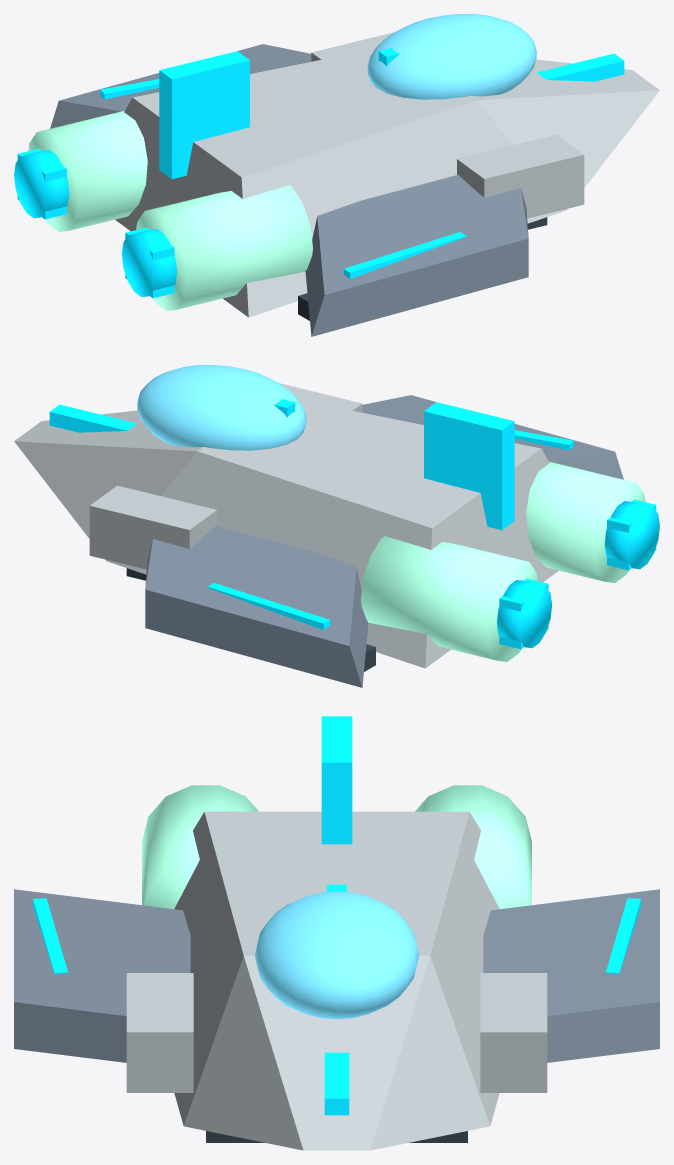
Rendered from prototype_heavy.glb.
3 views of the same model, one above another, from view 1: azimuth 30°, elevation 25°; view 2: azimuth 150°, elevation 25°; view 3: azimuth 270°, elevation 25° (orthographic). The views are drawn at different scales.
Visible parts, largest first — view 1: HeavyHull, HeavyRightWing, HeavyRightEngine, HeavyArmoredCanopy, HeavyLeftEngine, HeavyTailFin, HeavyRightShoulder, HeavyLeftWing, HeavyRightEngineCore, HeavyLeftEngineCore, HeavyNoseStripe, HeavyRightMarker (+4 smaller); view 2: HeavyHull, HeavyLeftWing, HeavyLeftEngine, HeavyArmoredCanopy, HeavyRightEngine, HeavyTailFin, HeavyLeftShoulder, HeavyRightWing, HeavyLeftEngineCore, HeavyRightEngineCore, HeavyNoseStripe, HeavyLeftMarker (+4 smaller); view 3: HeavyHull, HeavyLeftWing, HeavyRightWing, HeavyArmoredCanopy, HeavyLeftShoulder, HeavyRightShoulder, HeavyLeftEngine, HeavyRightEngine, HeavyTailFin, HeavyNoseStripe, HeavyLeftMarker, HeavyRightMarker (+1 smaller).
Boxes of the visible parts, x1,y1,x2,y2 form: HeavyHull: [115, 49, 659, 317]; HeavyRightWing: [305, 175, 528, 336]; HeavyRightEngine: [136, 185, 312, 310]; HeavyArmoredCanopy: [367, 14, 536, 99]; HeavyLeftEngine: [28, 110, 147, 231]; HeavyTailFin: [159, 51, 249, 179]; HeavyRightShoulder: [457, 134, 584, 218]; HeavyLeftWing: [50, 44, 311, 128]; HeavyRightEngineCore: [122, 229, 176, 297]; HeavyLeftEngineCore: [14, 150, 69, 218]; HeavyNoseStripe: [536, 53, 624, 81]; HeavyRightMarker: [343, 232, 466, 278]; HeavyHull: [14, 400, 558, 668]; HeavyLeftWing: [145, 526, 368, 687]; HeavyLeftEngine: [361, 536, 537, 661]; HeavyArmoredCanopy: [137, 365, 306, 450]; HeavyRightEngine: [526, 461, 645, 582]; HeavyTailFin: [424, 402, 514, 530]; HeavyLeftShoulder: [89, 485, 216, 569]; HeavyRightWing: [362, 395, 623, 479]; HeavyLeftEngineCore: [497, 580, 551, 648]; HeavyRightEngineCore: [604, 501, 659, 569]; HeavyNoseStripe: [49, 404, 137, 432]; HeavyLeftMarker: [207, 583, 330, 629]; HeavyHull: [174, 811, 499, 1150]; HeavyLeftWing: [483, 889, 659, 1062]; HeavyRightWing: [14, 889, 190, 1062]; HeavyArmoredCanopy: [254, 891, 419, 1019]; HeavyLeftShoulder: [480, 973, 547, 1092]; HeavyRightShoulder: [126, 973, 193, 1092]; HeavyLeftEngine: [415, 785, 531, 909]; HeavyRightEngine: [142, 785, 258, 909]; HeavyTailFin: [321, 716, 352, 844]; HeavyNoseStripe: [324, 1052, 349, 1115]; HeavyLeftMarker: [606, 898, 640, 974]; HeavyRightMarker: [33, 898, 67, 974].
Size of what is drawn, in the model's own units: 2.59 by 0.84 by 2.12.
